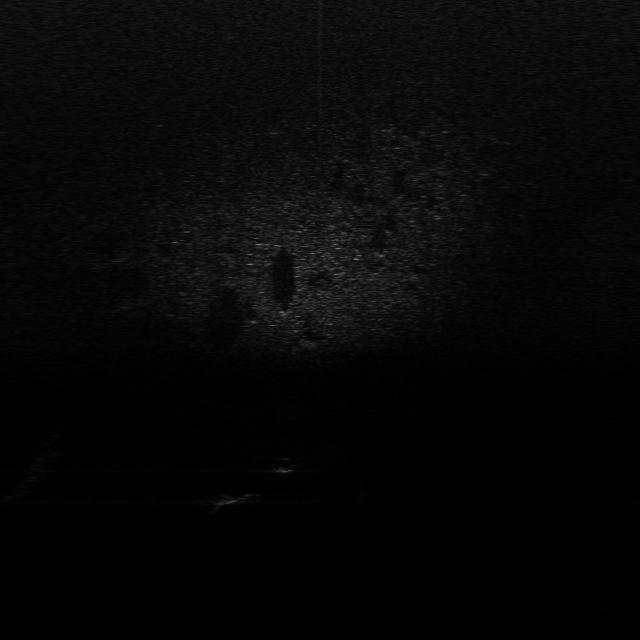ball: (272, 452, 300, 478)
square cage: (203, 489, 256, 507)
